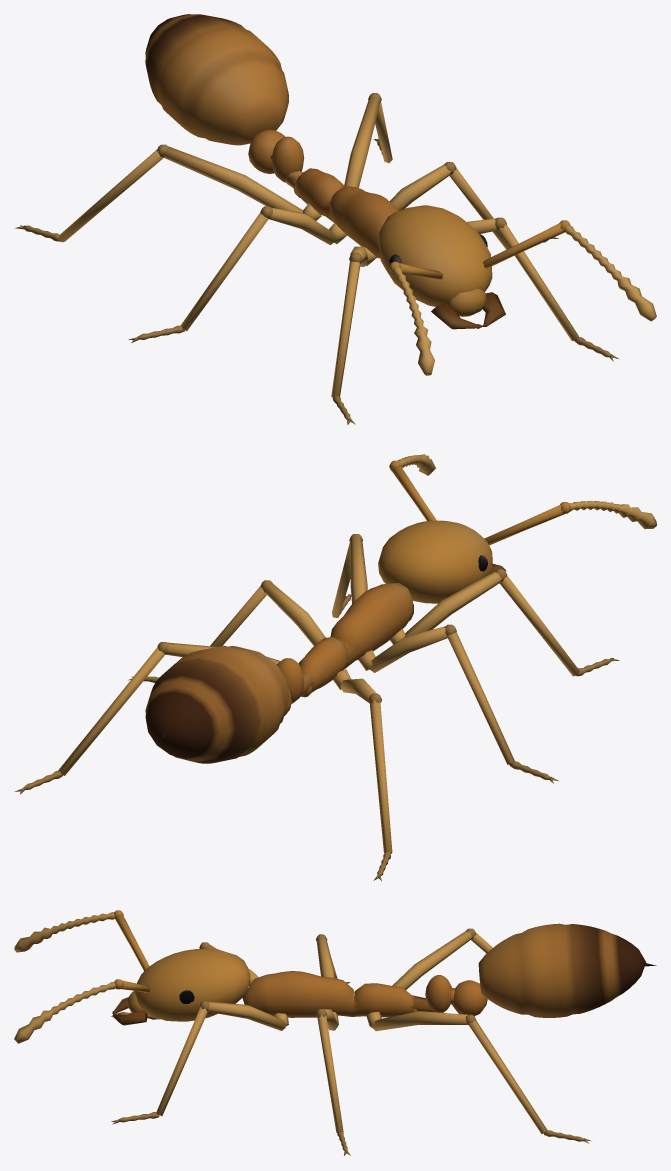
File: PharaohAnt.fbx
3 renders of one model, top to bottom at view 1: azimuth 30°, elevation 25°; view 2: azimuth 150°, elevation 25°; view 3: azimuth 270°, elevation 25°, orthographic. The views are drawn at different scales.
Visible parts, largest first — view 1: PharaohAnt; view 2: PharaohAnt; view 3: PharaohAnt.
Part boxes in pixels (left/top/right/bottom): PharaohAnt: left=14, top=14, right=656, bottom=424; PharaohAnt: left=14, top=454, right=656, bottom=881; PharaohAnt: left=14, top=910, right=656, bottom=1155.
Bounding box in the file's own units: 0.8922 × 0.3336 × 1.39.
